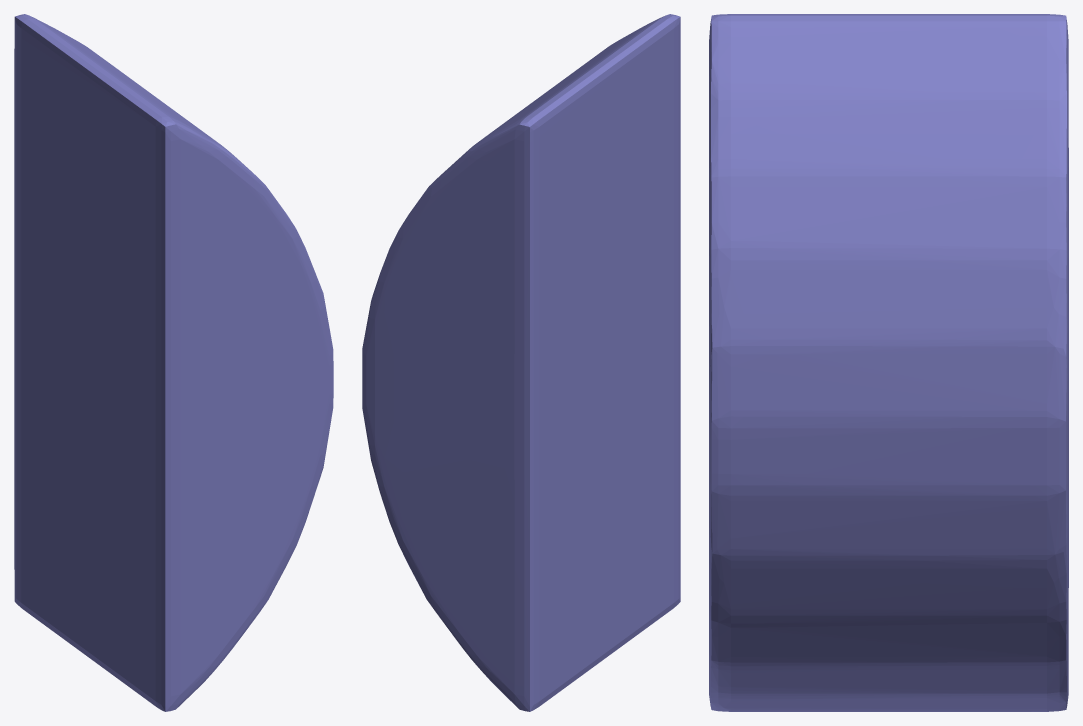
Rendered from right_forearm_1_part_12.obj.
3 views of the same model, side by side, from view 1: azimuth 30°, elevation 25°; view 2: azimuth 150°, elevation 25°; view 3: azimuth 270°, elevation 25° (orthographic). The views are drawn at different scales.
Size of the model in its own units: 35.73 by 118 by 55.32.
